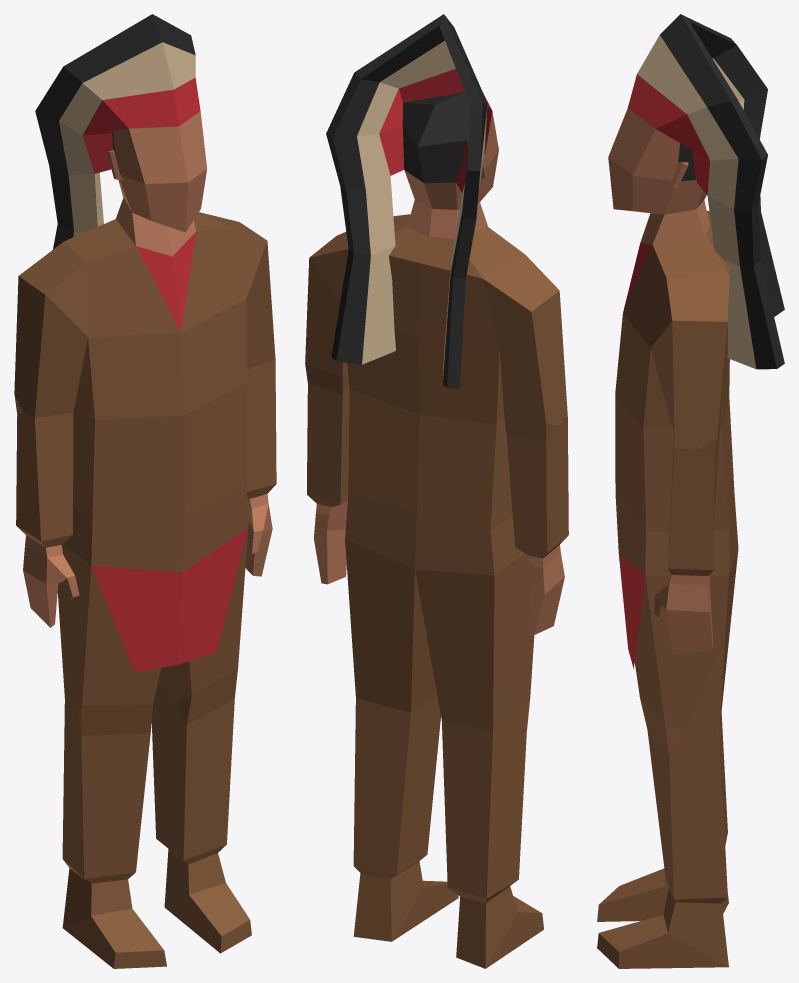
Rendered from people_man-native.fbx.
3 views of the same model, side by side, from view 1: azimuth 30°, elevation 25°; view 2: azimuth 150°, elevation 25°; view 3: azimuth 270°, elevation 25° (orthographic).
Visible parts, largest first — view 1: people_man_native; view 2: people_man_native; view 3: people_man_native.
Part boxes in pixels (x1,y1,x2,y2): people_man_native: [14, 14, 276, 968]; people_man_native: [305, 14, 568, 968]; people_man_native: [597, 14, 784, 968].
Size of the model in its own units: 55.39 by 200 by 36.95.
